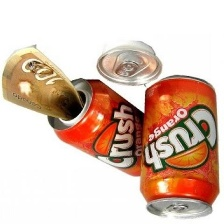can: (136, 71, 223, 221), (44, 77, 152, 179)
